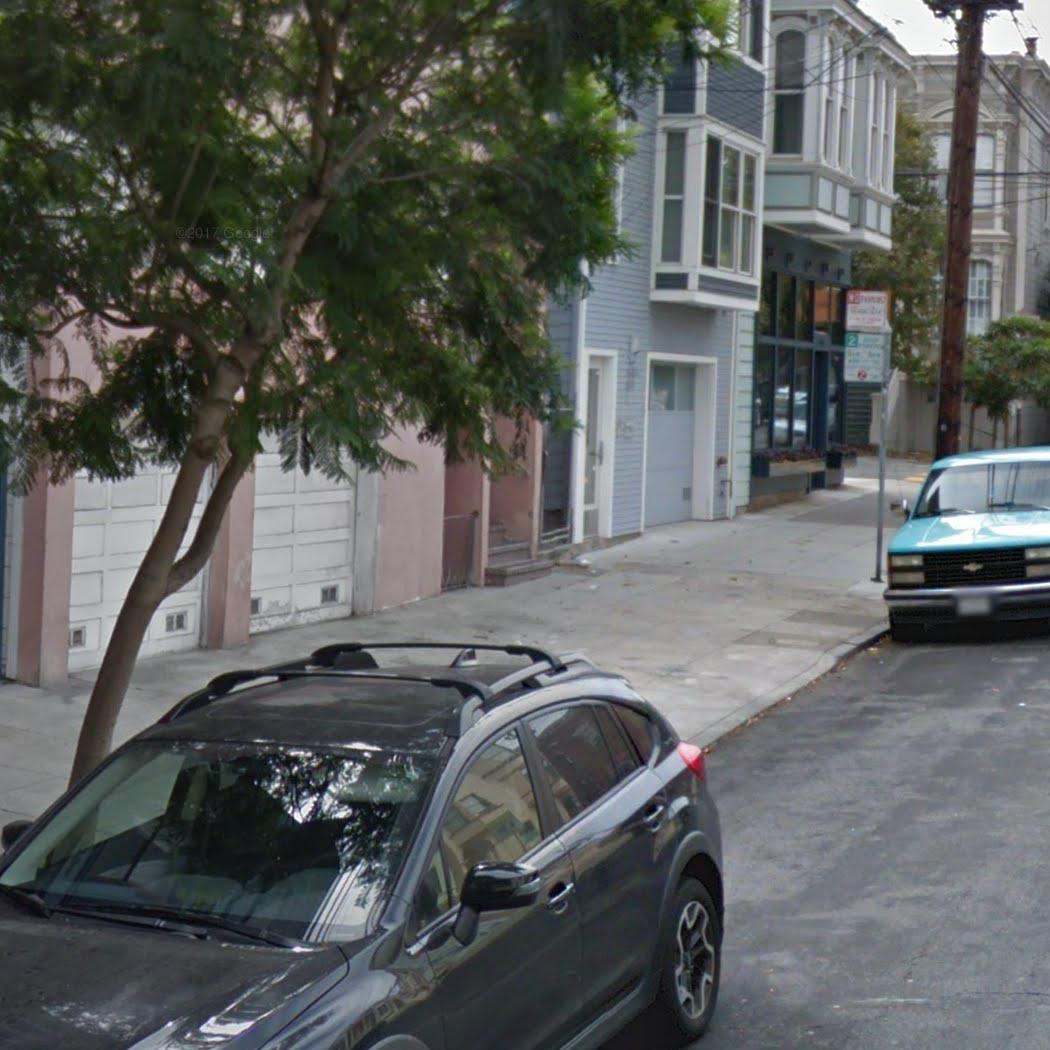2 Hour Parking: (842, 331, 888, 384)
No Parking: (844, 287, 893, 331)
